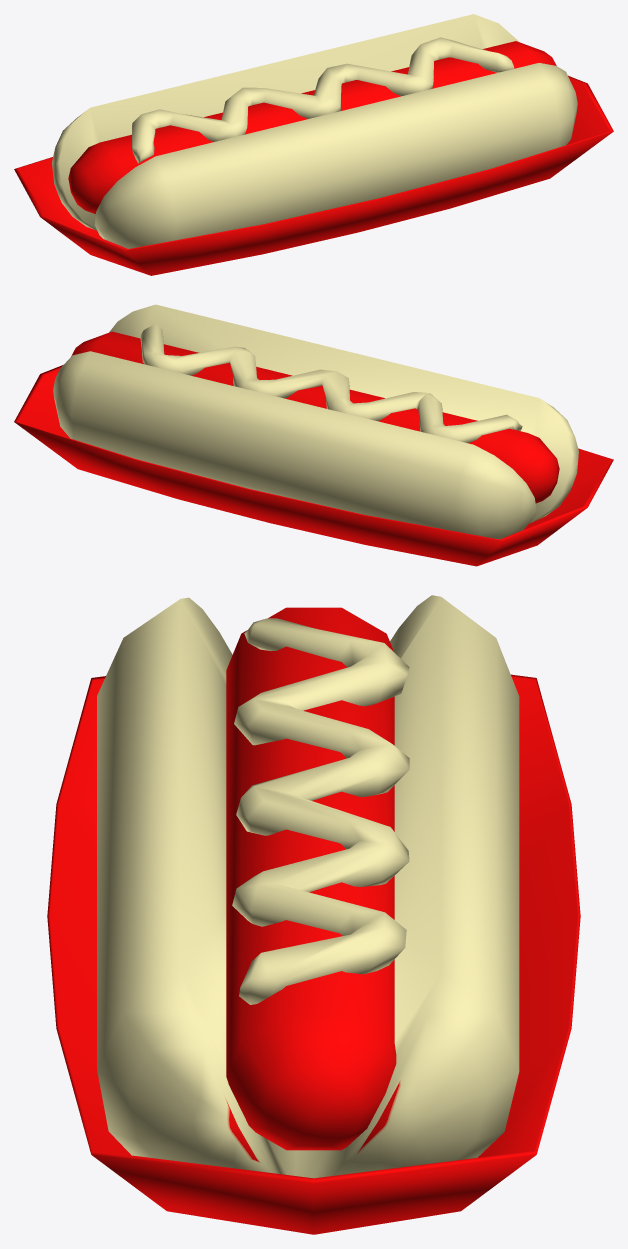
The model's file is hotdog.fbx.
3 views of the same model, one above another, from view 1: azimuth 30°, elevation 25°; view 2: azimuth 150°, elevation 25°; view 3: azimuth 270°, elevation 25° (orthographic). The views are drawn at different scales.
Parts seen in each view (by area): view 1: Hotdog; view 2: Hotdog; view 3: Hotdog.
Boxes of the visible parts, x1,y1,x2,y2 form: Hotdog: (14,14,613,275); Hotdog: (14,304,613,566); Hotdog: (47,595,580,1234).
Size of the model in its own units: 40.38 by 8.19 by 17.03.
